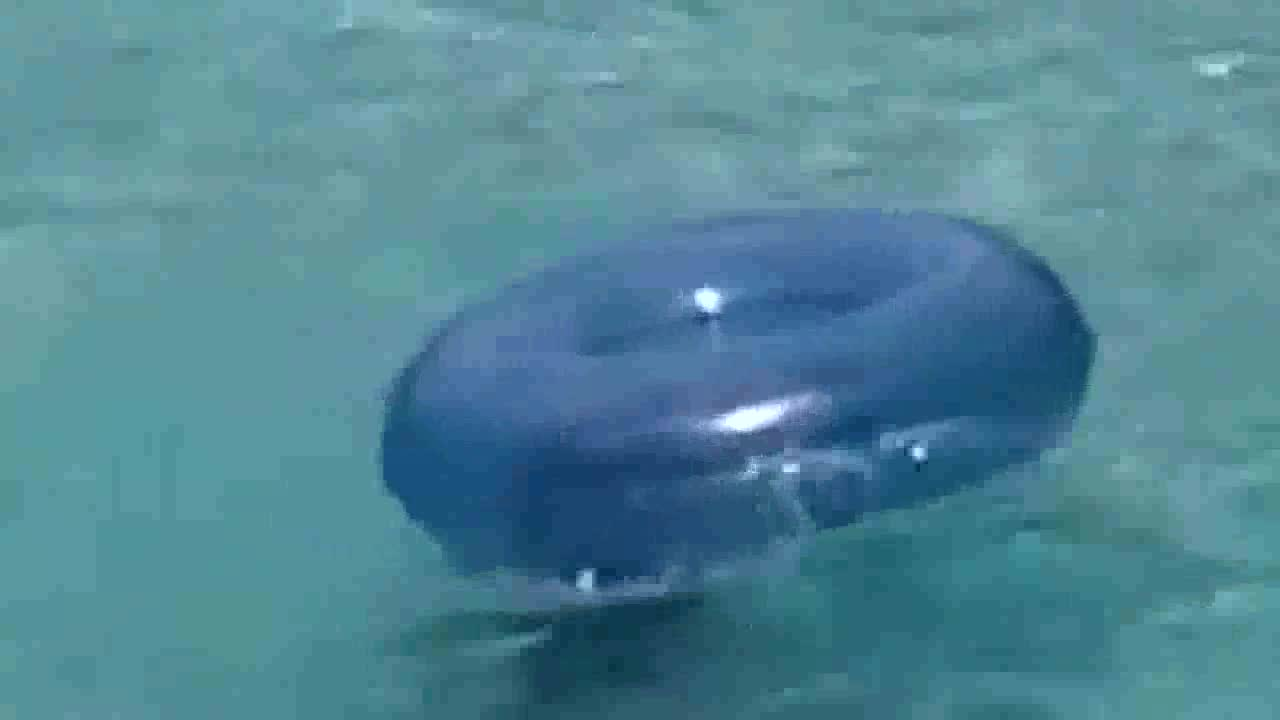Drowning: (433, 483, 879, 715)
